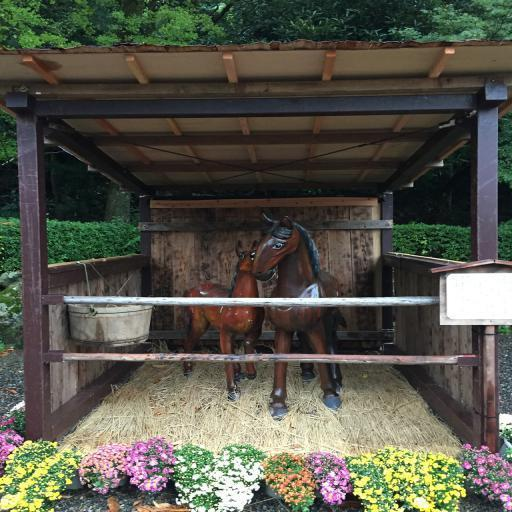horse: (254, 212, 346, 418), (175, 236, 264, 388)
